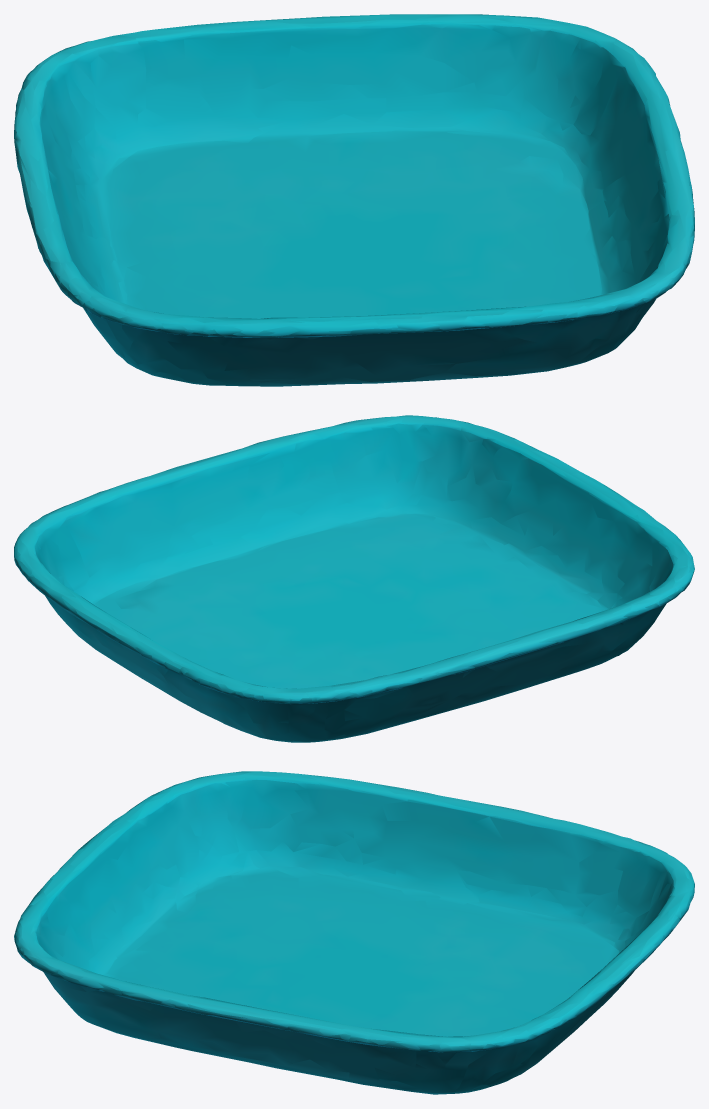
Rendered from 0004_mask_005_teal_tray.glb.
3 views of the same model, one above another, from view 1: azimuth 30°, elevation 25°; view 2: azimuth 150°, elevation 25°; view 3: azimuth 270°, elevation 25° (orthographic). The views are drawn at different scales.
Parts seen in each view (by area): view 1: mask_005_object; view 2: mask_005_object; view 3: mask_005_object.
Boxes of the visible parts, x1,y1,x2,y2 form: mask_005_object: [14, 14, 694, 386]; mask_005_object: [14, 415, 694, 742]; mask_005_object: [14, 771, 694, 1094].
Size of the model in its own units: 0.3463 by 0.0474 by 0.3612.
